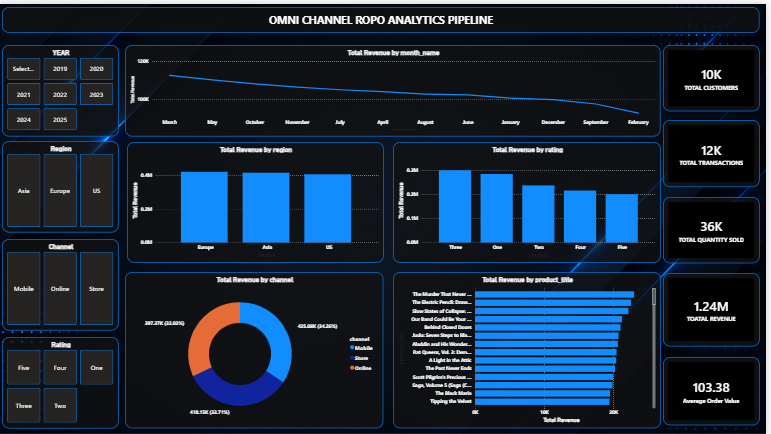

The dashboard page shown, as its layout file describes it:
{"tool":"powerbi","page":{"name":"Page 1","canvas":[1920,1080],"ordinal":0},"visuals":[{"type":"cardVisual","fields":{"Data":["public fact_ropo.Total Customers"]},"box":[1663.2,101.5,241.9,166.3],"z":0},{"type":"textbox","box":[10.8,6.5,1894.3,64.8],"z":1000},{"type":"lineChart","fields":{"Y":["public fact_ropo.Total Revenue"],"Category":["public dim_date.month_name"]},"box":[317.5,101.5,1339.2,229],"z":2000},{"type":"clusteredColumnChart","fields":{"Category":["public dim_region.region"],"Y":["public fact_ropo.Total Revenue"]},"box":[321.8,345.6,641.5,302.4],"z":3000},{"type":"donutChart","fields":{"Category":["public dim_channel.channel"],"Y":["public fact_ropo.Total Revenue"]},"box":[317.5,669.6,645.8,391],"z":4000},{"type":"barChart","fields":{"Category":["public dim_product.product_title"],"Y":["public fact_ropo.Total Revenue"]},"box":[987.1,669.6,669.6,391],"z":5000},{"type":"columnChart","fields":{"Y":["public fact_ropo.Total Revenue"],"Category":["public dim_product.rating"]},"box":[987.1,345.6,669.6,302.4],"z":6000},{"type":"cardVisual","fields":{"Data":["public fact_ropo.Total Transactions"]},"box":[1663.2,289.4,241.9,168.5],"z":7000},{"type":"cardVisual","fields":{"Data":["public fact_ropo.Total Quantity Sold"]},"box":[1663.2,481.7,241.9,166.3],"z":8000},{"type":"cardVisual","fields":{"Data":["public fact_ropo.Total Revenue"]},"box":[1663.2,671.8,241.9,183.6],"z":9000},{"type":"advancedSlicerVisual","fields":{"Values":["public dim_date.year"]},"box":[10.8,101.5,291.6,229],"z":10000},{"type":"advancedSlicerVisual","fields":{"Values":["public dim_region.region"]},"box":[10.8,343.4,291.6,229],"z":11000},{"type":"advancedSlicerVisual","fields":{"Values":["public dim_channel.channel"]},"box":[10.8,587.5,291.6,229],"z":12000},{"type":"advancedSlicerVisual","fields":{"Values":["public dim_product.rating"]},"box":[10.8,831.6,291.6,229],"z":13000},{"type":"cardVisual","fields":{"Data":["public fact_ropo.Average Order Value"]},"box":[1663.2,882.7,241.9,170.6],"z":14001}]}

Visuals, with their boxes in screenshot pixels (x1, y1, x2, y2), scaled from the page's 1920x1080 canvas onto the 771x434 screenshot:
cardVisual - public fact_ropo.Total Customers: box=[668, 41, 765, 108]
textbox: box=[4, 3, 765, 29]
lineChart - public fact_ropo.Total Revenue x public dim_date.month_name: box=[127, 41, 665, 133]
clusteredColumnChart - public dim_region.region x public fact_ropo.Total Revenue: box=[129, 139, 387, 260]
donutChart - public dim_channel.channel x public fact_ropo.Total Revenue: box=[127, 269, 387, 426]
barChart - public dim_product.product_title x public fact_ropo.Total Revenue: box=[396, 269, 665, 426]
columnChart - public fact_ropo.Total Revenue x public dim_product.rating: box=[396, 139, 665, 260]
cardVisual - public fact_ropo.Total Transactions: box=[668, 116, 765, 184]
cardVisual - public fact_ropo.Total Quantity Sold: box=[668, 194, 765, 260]
cardVisual - public fact_ropo.Total Revenue: box=[668, 270, 765, 344]
advancedSlicerVisual - public dim_date.year: box=[4, 41, 121, 133]
advancedSlicerVisual - public dim_region.region: box=[4, 138, 121, 230]
advancedSlicerVisual - public dim_channel.channel: box=[4, 236, 121, 328]
advancedSlicerVisual - public dim_product.rating: box=[4, 334, 121, 426]
cardVisual - public fact_ropo.Average Order Value: box=[668, 355, 765, 423]
